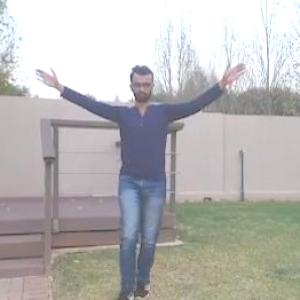takeoff: (32, 61, 245, 295)
